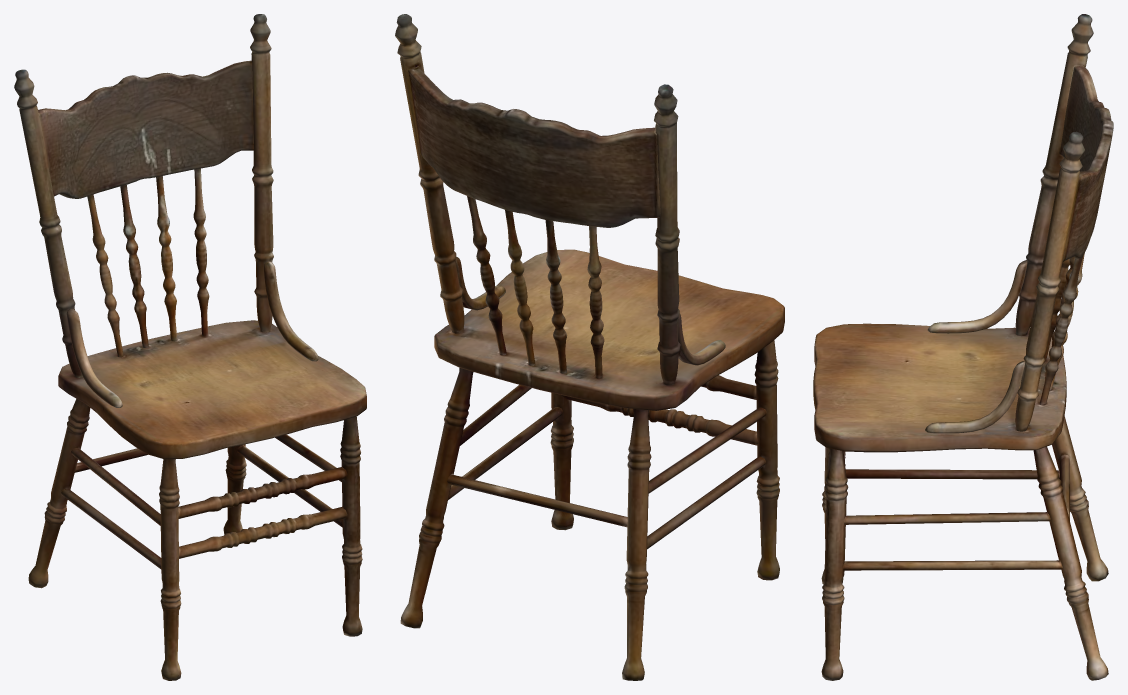
File: silla.glb
The picture shows the model from 3 angles, left to right: view 1: azimuth 30°, elevation 25°; view 2: azimuth 150°, elevation 25°; view 3: azimuth 270°, elevation 25°; orthographic projection. The views are drawn at different scales.
Parts seen in each view (by area): view 1: Object_2; view 2: Object_2; view 3: Object_2.
Boxes of the visible parts, x1,y1,x2,y2 form: Object_2: (14, 14, 366, 680); Object_2: (395, 14, 784, 680); Object_2: (813, 14, 1113, 680).
Size of the model in its own units: 0.4892 by 0.9841 by 0.4827.
1 material, 1 textured.
